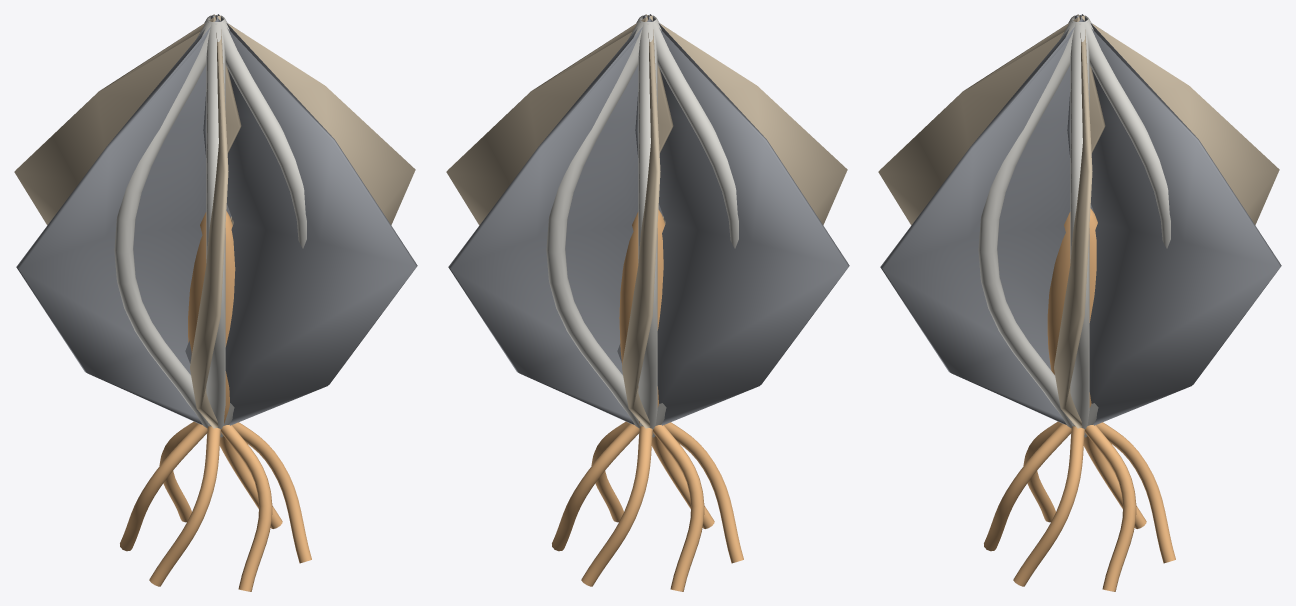
File: bio_lantern_sail_09_near.glb
3 views of the same model, side by side, from view 1: azimuth 30°, elevation 25°; view 2: azimuth 150°, elevation 25°; view 3: azimuth 270°, elevation 25° (orthographic).
Visible parts, largest first — view 1: Ribbed sensory membrane.005, Ribbed sensory membrane.003, Ribbed sensory membrane.002, Ribbed sensory membrane, Membrane leading seam.003, Ribbed sensory membrane.004, Membrane leading seam.004, Membrane leading seam.005, Trailing electroreceptor.004, Buoyancy spindle, Trailing electroreceptor.003, Trailing electroreceptor.005 (+3 smaller); view 2: Ribbed sensory membrane.003, Ribbed sensory membrane.001, Ribbed sensory membrane, Ribbed sensory membrane.004, Membrane leading seam.001, Ribbed sensory membrane.002, Membrane leading seam.002, Membrane leading seam.003, Trailing electroreceptor.002, Trailing electroreceptor.001, Buoyancy spindle, Trailing electroreceptor.003 (+3 smaller); view 3: Ribbed sensory membrane.001, Ribbed sensory membrane.005, Ribbed sensory membrane.004, Ribbed sensory membrane.002, Membrane leading seam.005, Ribbed sensory membrane, Membrane leading seam, Membrane leading seam.001, Buoyancy spindle, Trailing electroreceptor, Trailing electroreceptor.005, Trailing electroreceptor.001 (+3 smaller).
Part boxes in pixels (bbox=[...]): Ribbed sensory membrane.005: bbox=[185, 14, 417, 425]; Ribbed sensory membrane.003: bbox=[16, 16, 227, 424]; Ribbed sensory membrane.002: bbox=[14, 16, 241, 225]; Ribbed sensory membrane: bbox=[213, 14, 415, 225]; Membrane leading seam.003: bbox=[114, 18, 215, 434]; Ribbed sensory membrane.004: bbox=[190, 15, 228, 428]; Membrane leading seam.004: bbox=[206, 22, 225, 436]; Membrane leading seam.005: bbox=[216, 18, 306, 437]; Trailing electroreceptor.004: bbox=[221, 425, 272, 591]; Buoyancy spindle: bbox=[188, 211, 235, 423]; Trailing electroreceptor.003: bbox=[149, 426, 220, 586]; Trailing electroreceptor.005: bbox=[232, 422, 311, 563]; Ribbed sensory membrane.003: bbox=[617, 14, 849, 425]; Ribbed sensory membrane.001: bbox=[448, 16, 659, 424]; Ribbed sensory membrane: bbox=[446, 16, 673, 225]; Ribbed sensory membrane.004: bbox=[645, 14, 847, 225]; Membrane leading seam.001: bbox=[546, 18, 647, 434]; Ribbed sensory membrane.002: bbox=[622, 15, 660, 428]; Membrane leading seam.002: bbox=[638, 22, 657, 436]; Membrane leading seam.003: bbox=[648, 18, 738, 437]; Trailing electroreceptor.002: bbox=[653, 425, 704, 591]; Trailing electroreceptor.001: bbox=[581, 426, 652, 586]; Buoyancy spindle: bbox=[619, 209, 665, 423]; Trailing electroreceptor.003: bbox=[664, 422, 743, 563]; Ribbed sensory membrane.001: bbox=[1080, 14, 1281, 425]; Ribbed sensory membrane.005: bbox=[880, 16, 1091, 424]; Ribbed sensory membrane.004: bbox=[878, 16, 1105, 225]; Ribbed sensory membrane.002: bbox=[1077, 14, 1279, 225]; Membrane leading seam.005: bbox=[978, 18, 1079, 434]; Ribbed sensory membrane: bbox=[1054, 15, 1092, 428]; Membrane leading seam: bbox=[1070, 22, 1089, 436]; Membrane leading seam.001: bbox=[1080, 18, 1170, 437]; Buoyancy spindle: bbox=[1047, 208, 1097, 407]; Trailing electroreceptor: bbox=[1085, 425, 1136, 591]; Trailing electroreceptor.005: bbox=[1013, 426, 1084, 586]; Trailing electroreceptor.001: bbox=[1096, 422, 1175, 563].
Bounding box in the file's own units: 2.38 × 3.09 × 2.09.
